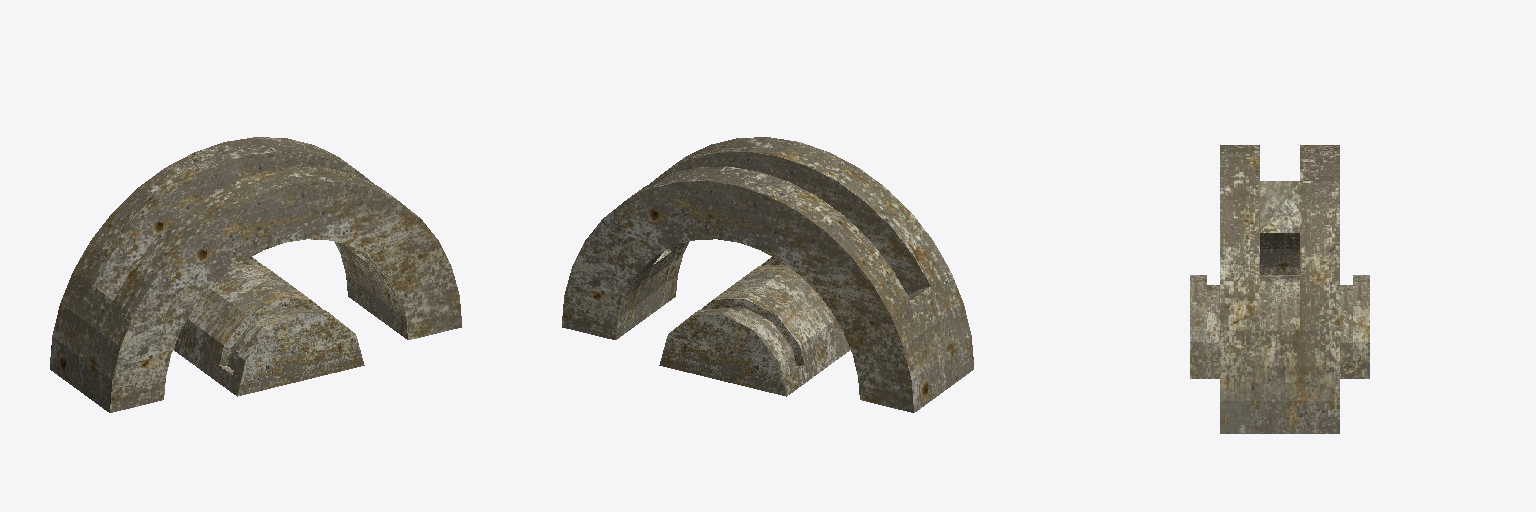
3 views of the same model, side by side, from view 1: azimuth 30°, elevation 25°; view 2: azimuth 150°, elevation 25°; view 3: azimuth 270°, elevation 25° (orthographic).
Visible parts, largest first — view 1: Body; view 2: Body; view 3: Body.
Part boxes in pixels (bbox=[...]): Body: bbox=[50, 137, 461, 412]; Body: bbox=[562, 137, 973, 412]; Body: bbox=[1190, 145, 1369, 433].
Bounding box in the file's own units: 16.31 × 8.16 × 7.2.
Materials: 1 (1 with a texture image).